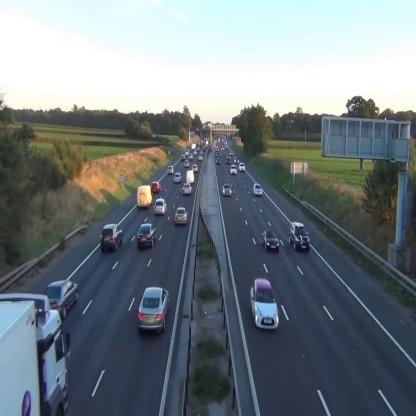car: (249, 278, 278, 329), (138, 286, 169, 332), (46, 281, 78, 314), (289, 222, 310, 252), (100, 223, 122, 249), (138, 223, 156, 248), (260, 232, 280, 251), (174, 206, 188, 226), (154, 199, 167, 216), (186, 169, 195, 183), (151, 181, 161, 192), (252, 184, 262, 195), (182, 183, 191, 195), (223, 184, 232, 196), (174, 172, 182, 182), (230, 164, 237, 174), (239, 162, 246, 172), (167, 165, 174, 174), (192, 163, 198, 172), (226, 155, 232, 163), (184, 159, 189, 167), (216, 158, 221, 165), (182, 153, 186, 160)
lorry: (0, 292, 67, 416), (137, 186, 152, 208)
